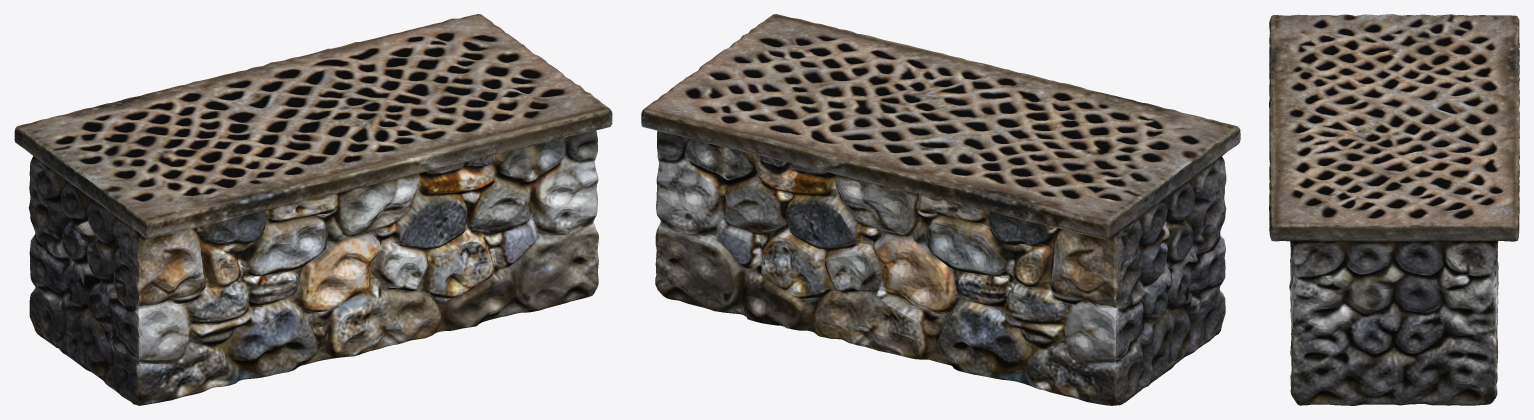
Rendered from mdl_wall_001.glb.
3 renders of one model, left to right at view 1: azimuth 30°, elevation 25°; view 2: azimuth 150°, elevation 25°; view 3: azimuth 270°, elevation 25°, orthographic. The views are drawn at different scales.
Parts seen in each view (by area): view 1: tmpx66n62lu.ply; view 2: tmpx66n62lu.ply; view 3: tmpx66n62lu.ply.
Part boxes in pixels (x1=…): tmpx66n62lu.ply: x1=14, y1=14, x2=612, y2=405; tmpx66n62lu.ply: x1=641, y1=14, x2=1240, y2=405; tmpx66n62lu.ply: x1=1269, y1=14, x2=1519, y2=405.
Bounding box in the file's own units: 0.9913 × 0.4016 × 0.4947.
Materials: 1 (1 with a texture image).
